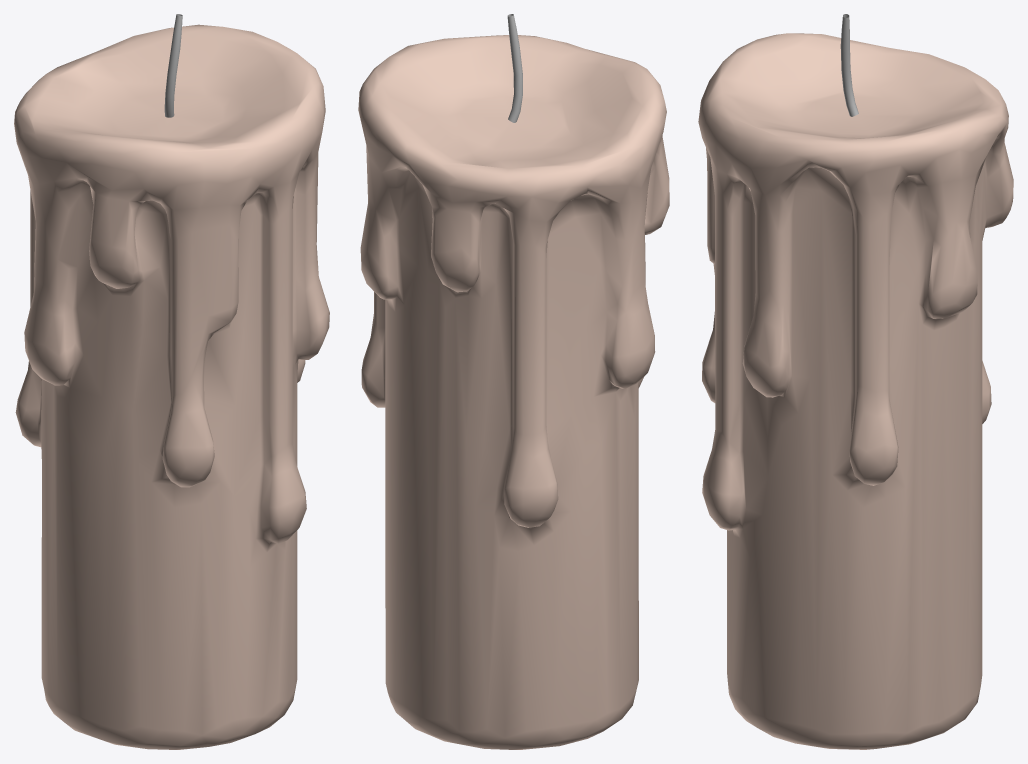
File: candela.fbx
3 views of the same model, side by side, from view 1: azimuth 30°, elevation 25°; view 2: azimuth 150°, elevation 25°; view 3: azimuth 270°, elevation 25° (orthographic).
Parts seen in each view (by area): view 1: Candle, Rope; view 2: Candle, Rope; view 3: Candle, Rope.
Part boxes in pixels (x1,y1,x2,y2): Candle: [14, 24, 329, 749]; Rope: [164, 14, 182, 117]; Candle: [358, 35, 669, 749]; Rope: [507, 14, 522, 122]; Candle: [698, 33, 1013, 749]; Rope: [840, 14, 858, 116].
Size of the model in its own units: 16.91 by 40.35 by 16.69.
